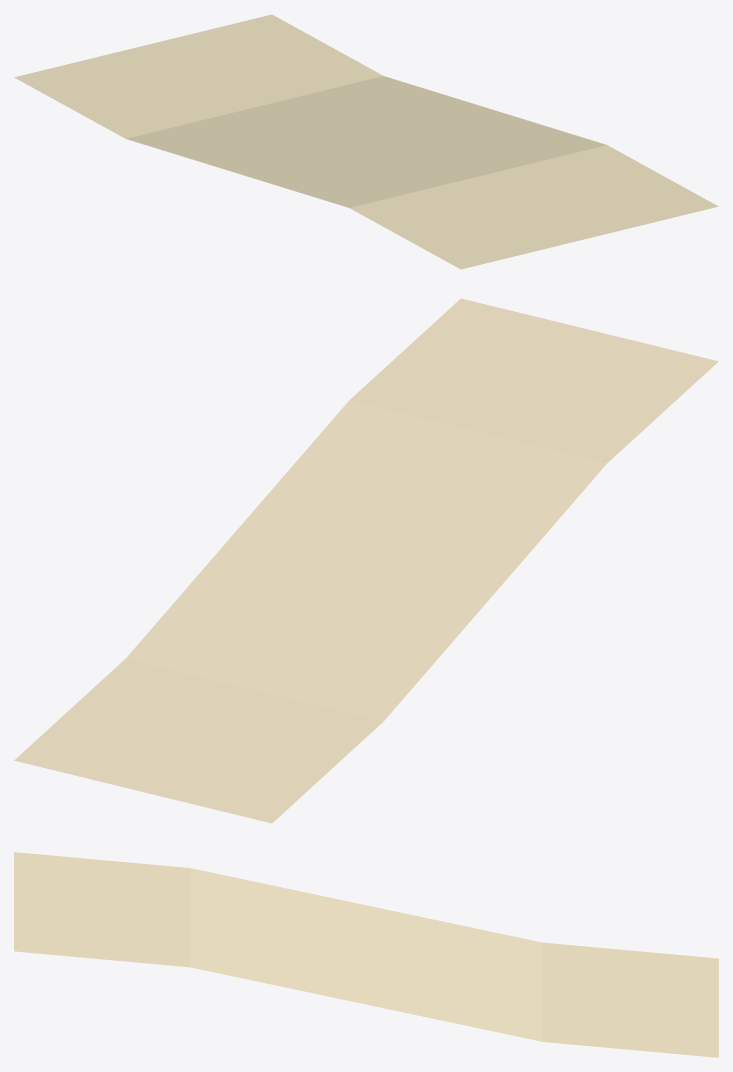
The model's file is Beach_Terrain_Sand_Side_Sharp.fbx.
3 renders of one model, top to bottom at view 1: azimuth 30°, elevation 25°; view 2: azimuth 150°, elevation 25°; view 3: azimuth 270°, elevation 25°, orthographic. The views are drawn at different scales.
Visible parts, largest first — view 1: object1; view 2: object1; view 3: object1.
Part boxes in pixels (x1,y1,x2,y2): object1: (14, 14, 718, 269); object1: (14, 298, 718, 823); object1: (14, 852, 718, 1057).
Size of the model in its own units: 1 by 0.5 by 3.
